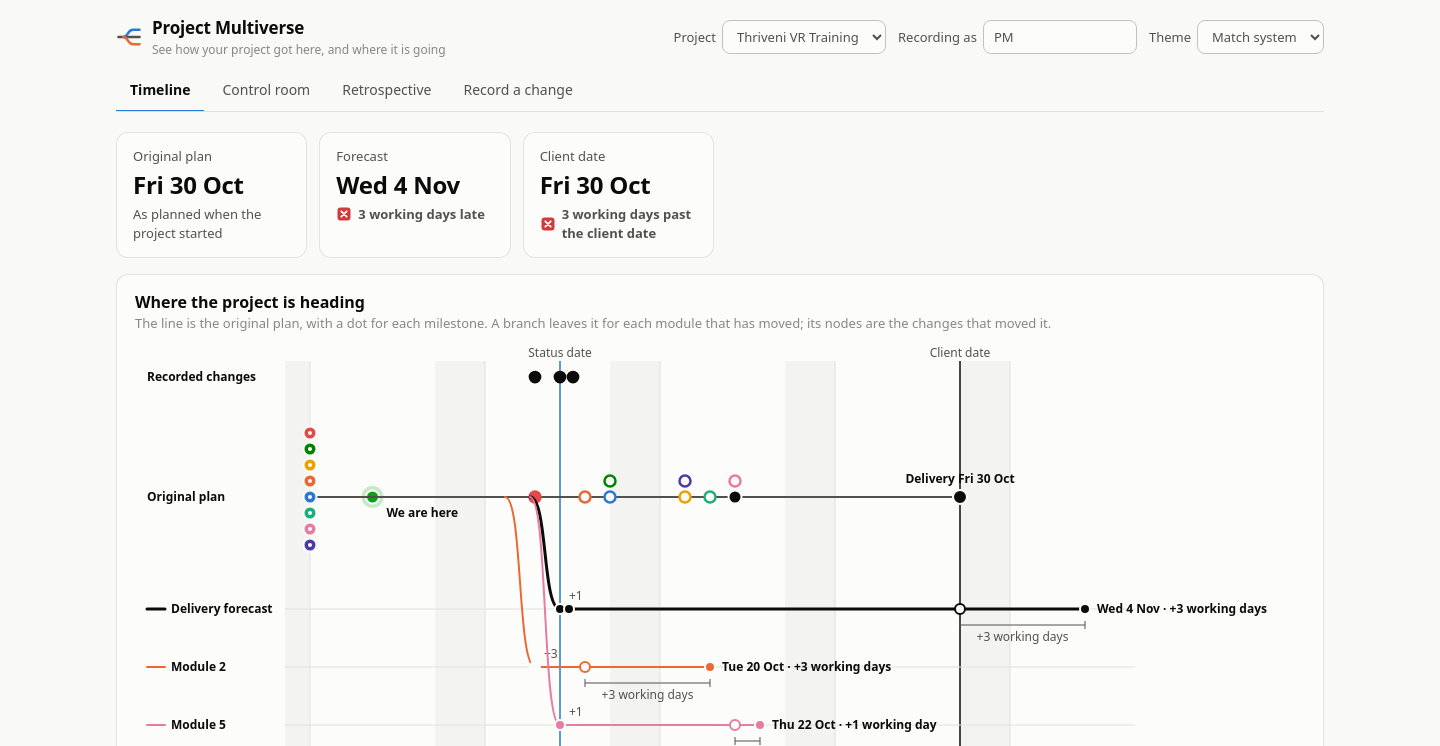
Test: recording a change › starts a form on the later of today and the last status date: today is before the last status date
Click the tab "Record a change".
click(518, 91)  # box [450,70,587,112]
(page scrolled)
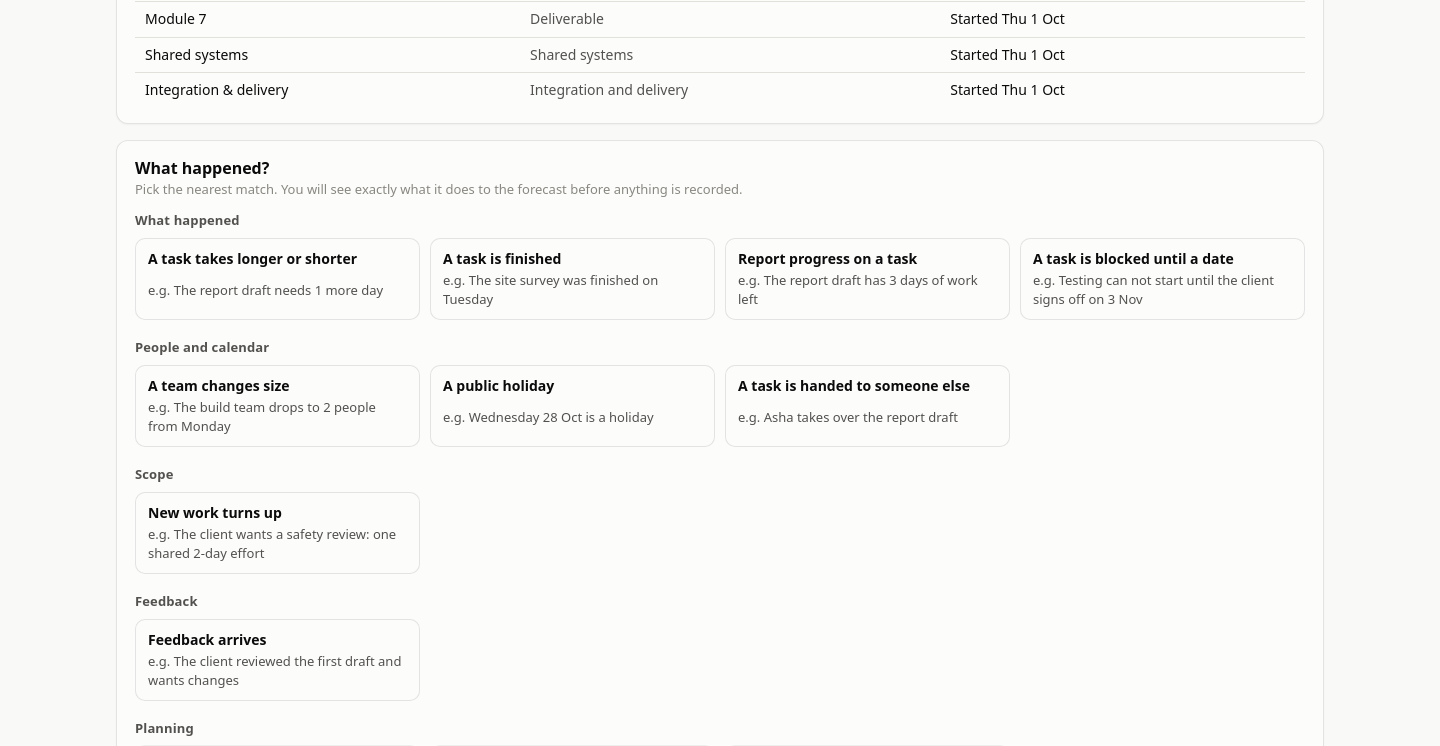
Click the button "A public holiday e.g. Wednesday 28 Oct is a holiday".
click(572, 406)  # box [430,365,715,447]
(page scrolled)
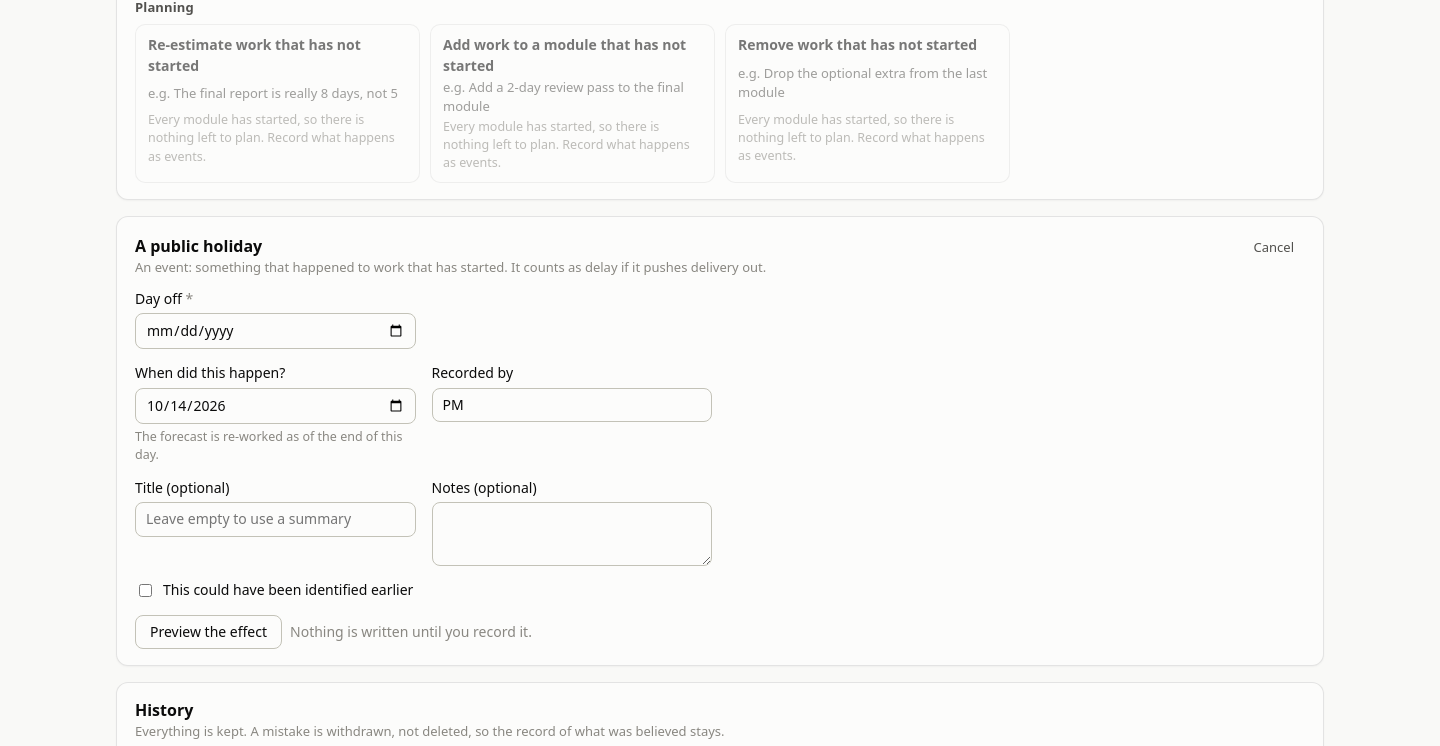
Result: the date field labelled "When did this happen?" holds "2026-10-14" at [135,388,416,424]
